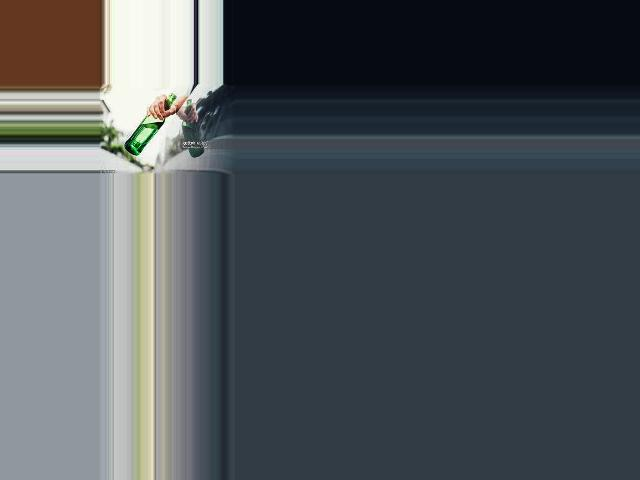beer: (124, 94, 177, 155)
